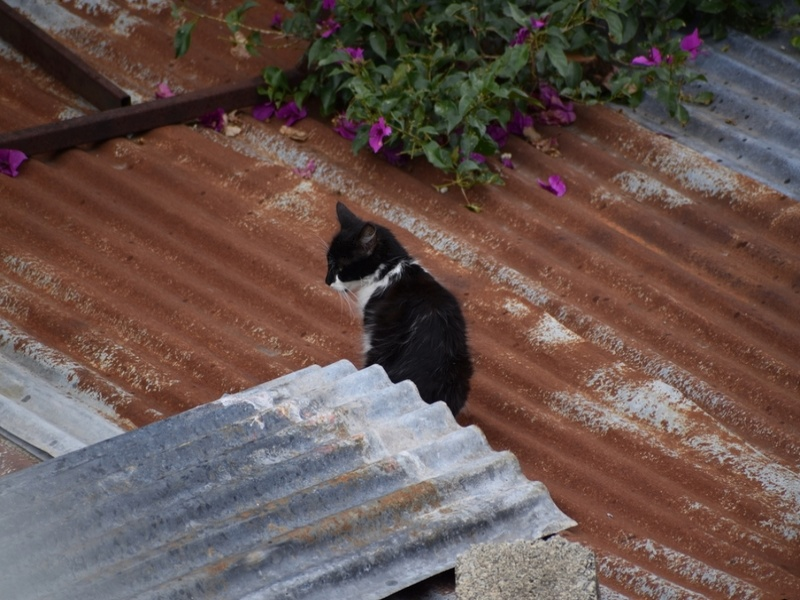cat: (318, 195, 479, 427)
